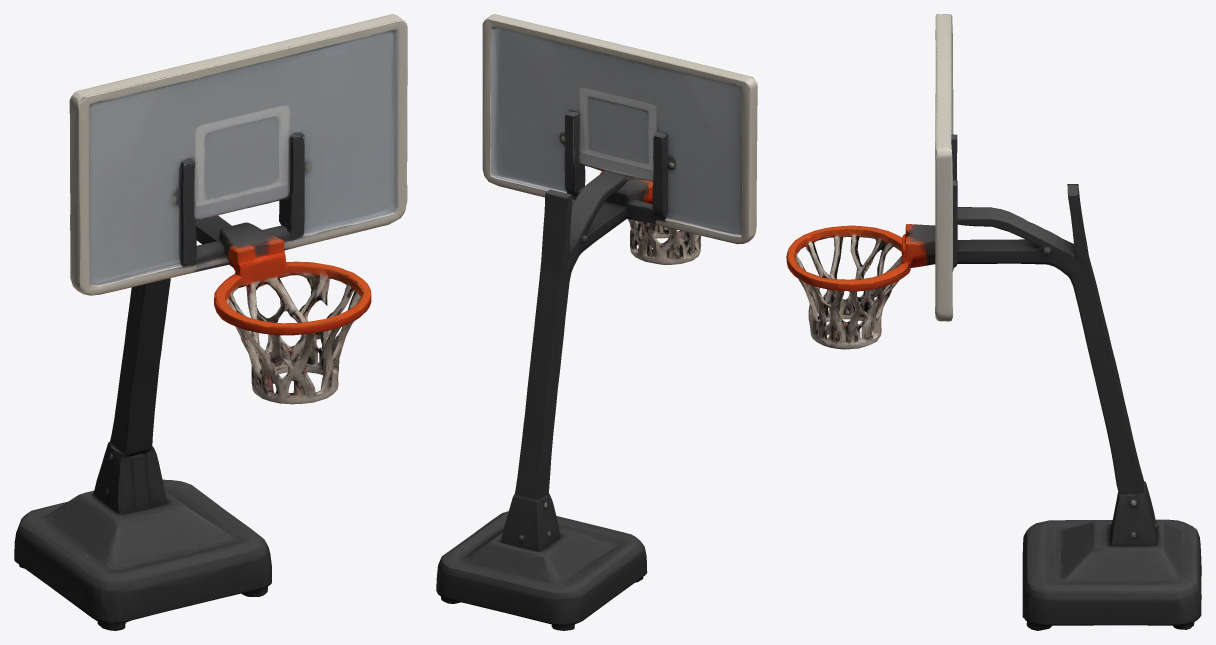
The model's file is hoop.glb.
The picture shows the model from 3 angles, left to right: view 1: azimuth 30°, elevation 25°; view 2: azimuth 150°, elevation 25°; view 3: azimuth 270°, elevation 25°; orthographic projection. The views are drawn at different scales.
Visible parts, largest first — view 1: geometry_0; view 2: geometry_0; view 3: geometry_0.
Part boxes in pixels (box(x1,y1,x2,y2)): geometry_0: box(14, 14, 407, 630); geometry_0: box(436, 14, 757, 630); geometry_0: box(786, 14, 1201, 630).
Size of the model in its own units: 0.5829 by 1 by 0.7306.
1 material, 1 textured.
